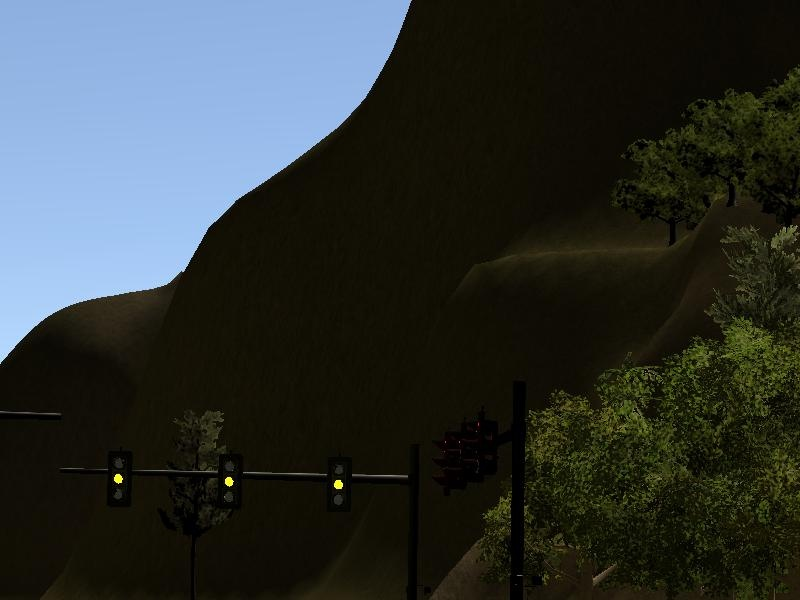YELLOW: (214, 450, 245, 509), (326, 459, 355, 514), (103, 450, 129, 505)
